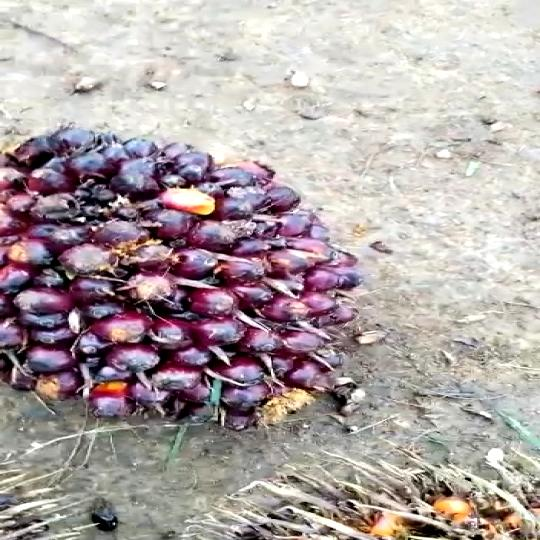mentah: (0, 120, 397, 436)
